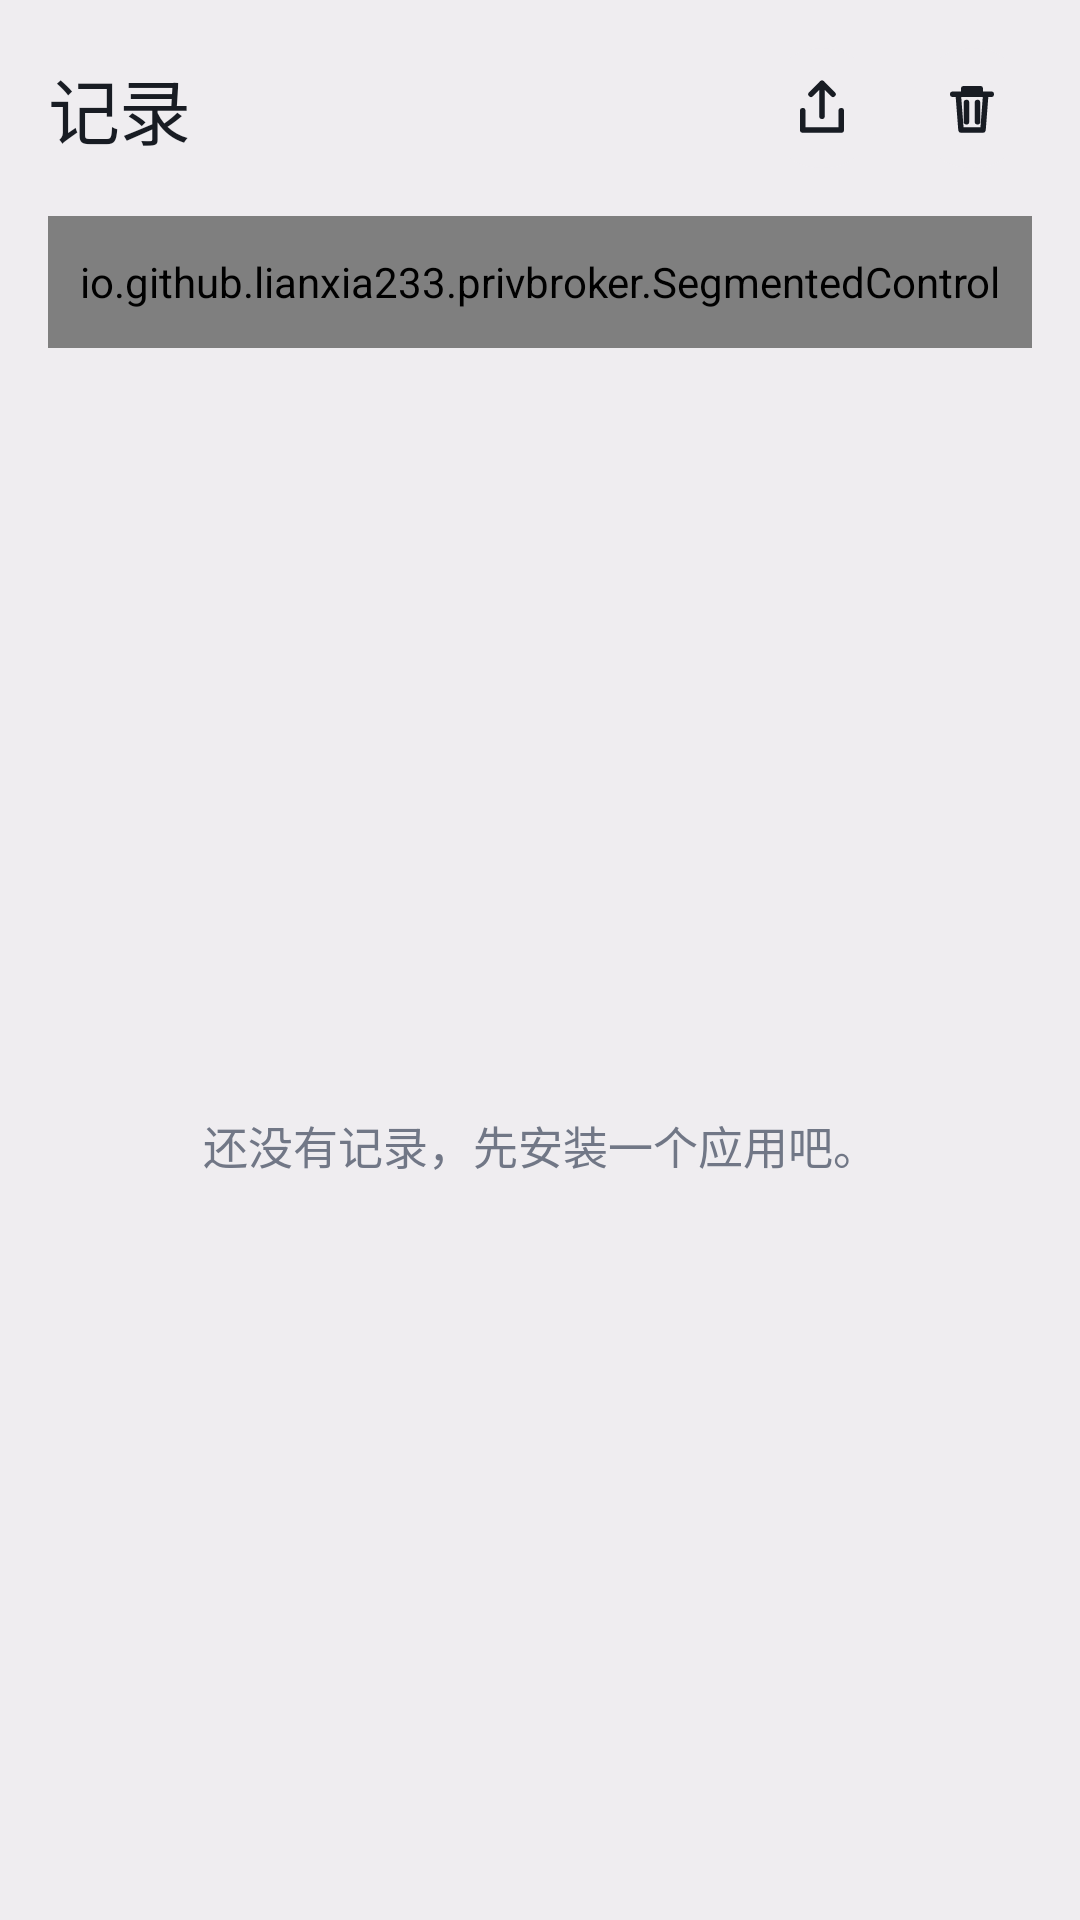

Where icons sit on this 1080px x 1920px app screen, as (x1, y1, x2, y2):
导出安装日志: (800, 80, 844, 133)
日志已清空: (950, 86, 994, 133)
